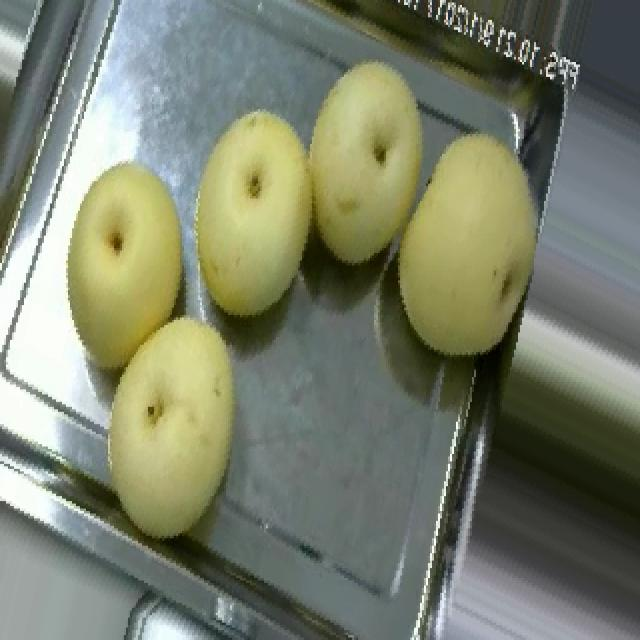Fruit: (62, 276, 280, 566), (362, 104, 580, 382), (26, 136, 216, 402), (282, 32, 462, 290), (162, 85, 332, 348)
